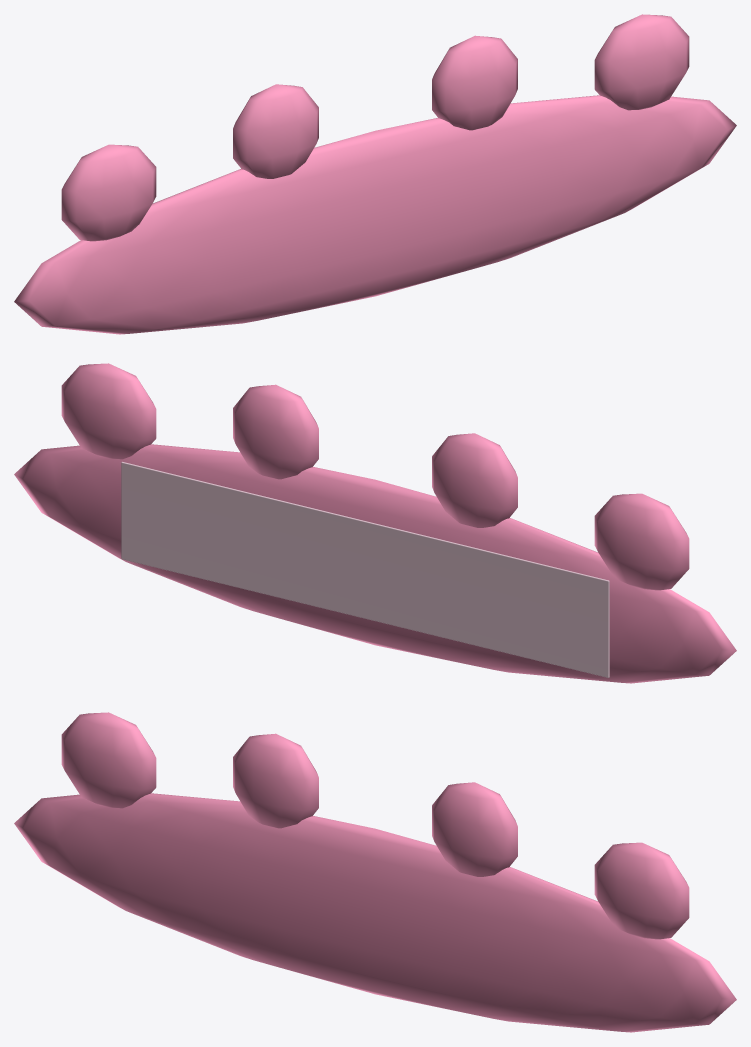
The model's file is sign_paw.glb.
3 renders of one model, top to bottom at view 1: azimuth 30°, elevation 25°; view 2: azimuth 150°, elevation 25°; view 3: azimuth 330°, elevation 25°, orthographic.
Parts seen in each view (by area): view 1: Body; view 2: Body; view 3: Body.
Part boxes in pixels (x1,y1,x2,y2): Body: (14,14,736,334); Body: (14,363,736,683); Body: (14,712,736,1032).
Size of the model in its own units: 1.6 by 0.5 by 0.08.
2 materials, 2 textured.
